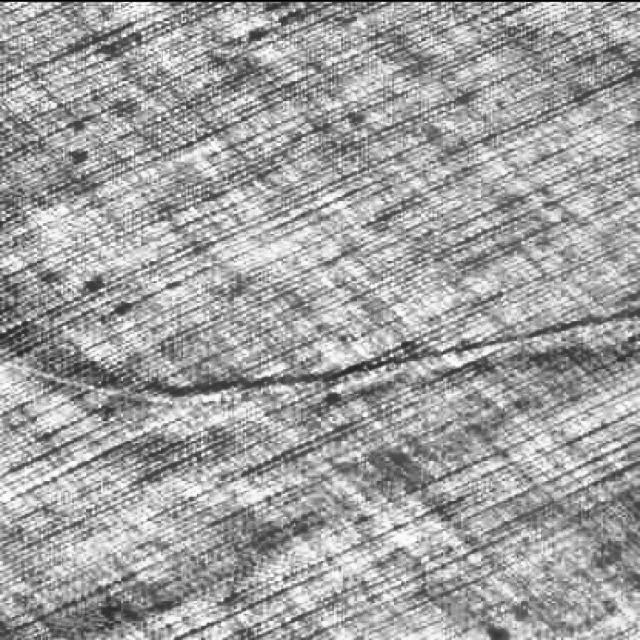thread_error: (0, 296, 637, 419)
